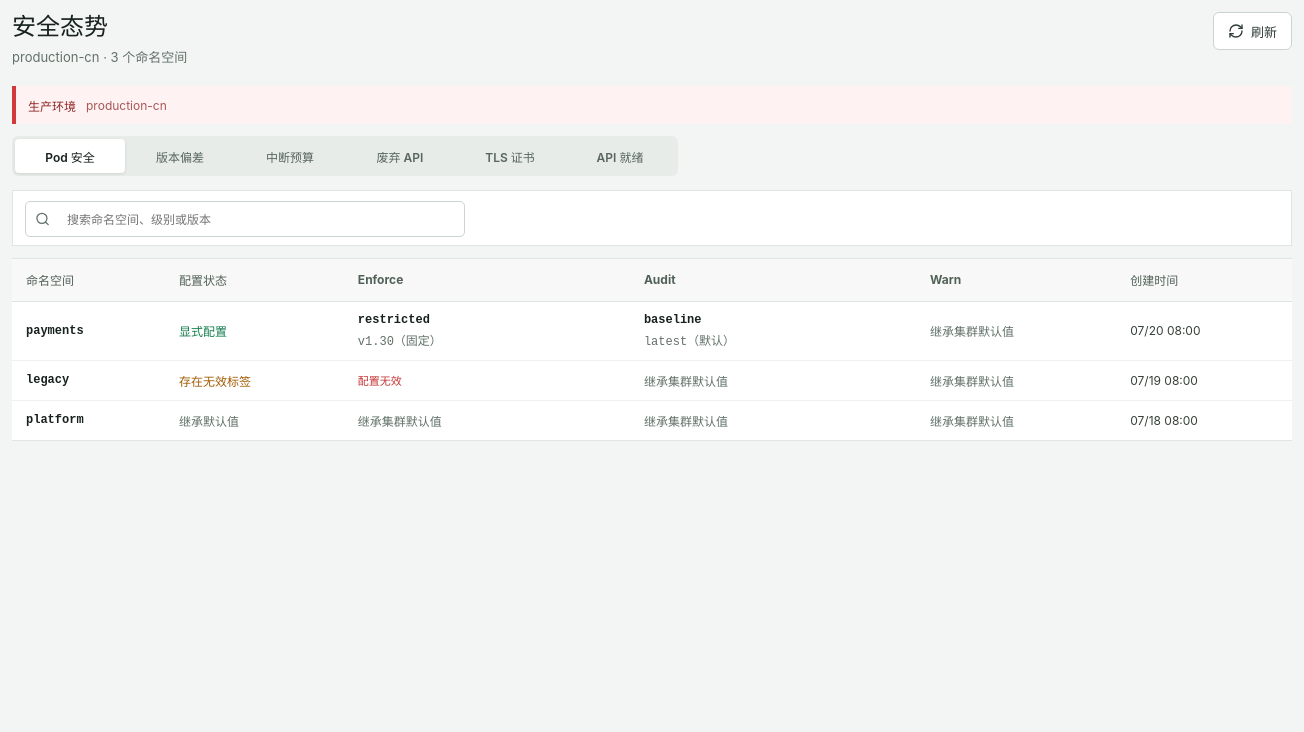
Test: SecurityPage › loads redacted API Server readiness checks only after its view is selected and searches locally
Expected: the text "payments" is shown, x1=26 y1=324 x2=84 y2=338
Click the button "API 就绪" at (620,156), box x1=565 y1=139 x2=675 y2=173
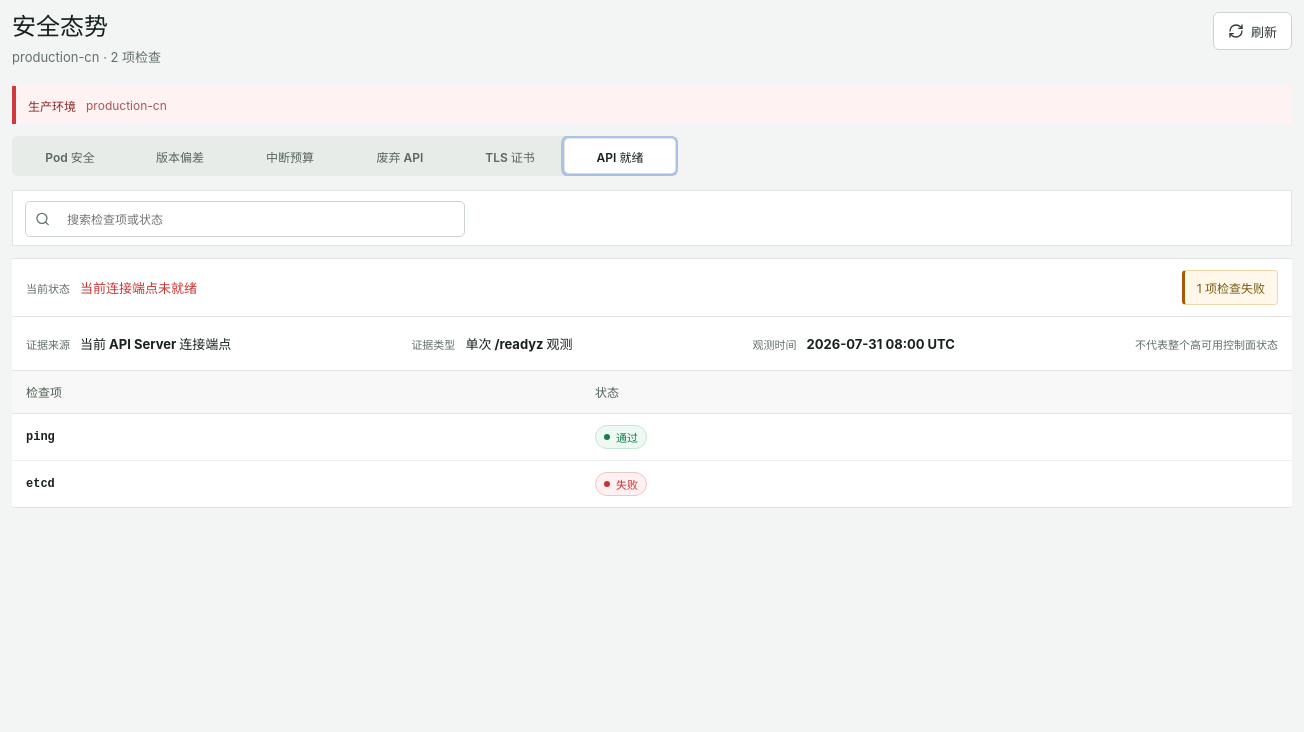
Now the text "当前连接端点未就绪" is shown, box x1=80 y1=278 x2=197 y2=297
Now the text "当前 API Server 连接端点" is shown, box x1=80 y1=334 x2=231 y2=353
Now the text "单次 /readyz 观测" is shown, box x1=465 y1=334 x2=573 y2=353
Type "etcd 失败" into the search field named "搜索 API Server 就绪检查" at (256,219), box x1=57 y1=200 x2=455 y2=238
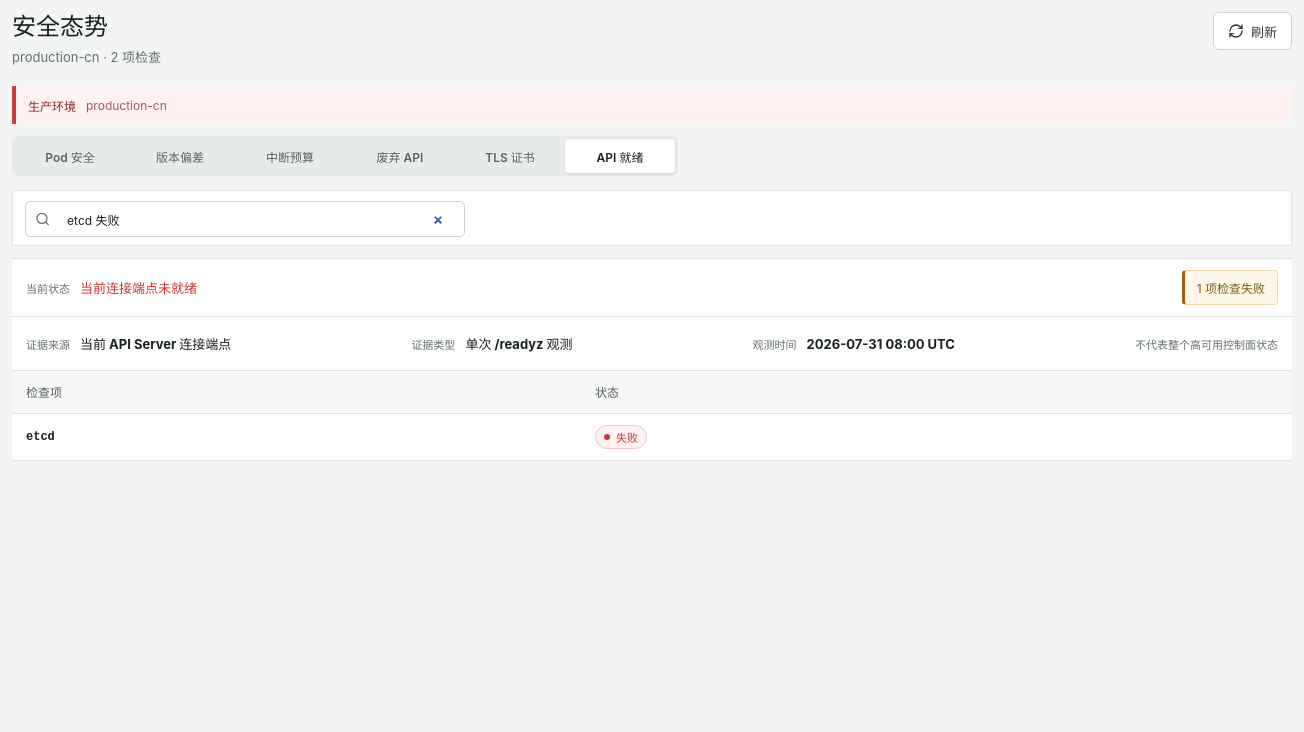
Now the text "etcd" is shown, box x1=26 y1=430 x2=55 y2=444
Now the text "ping" is gone
